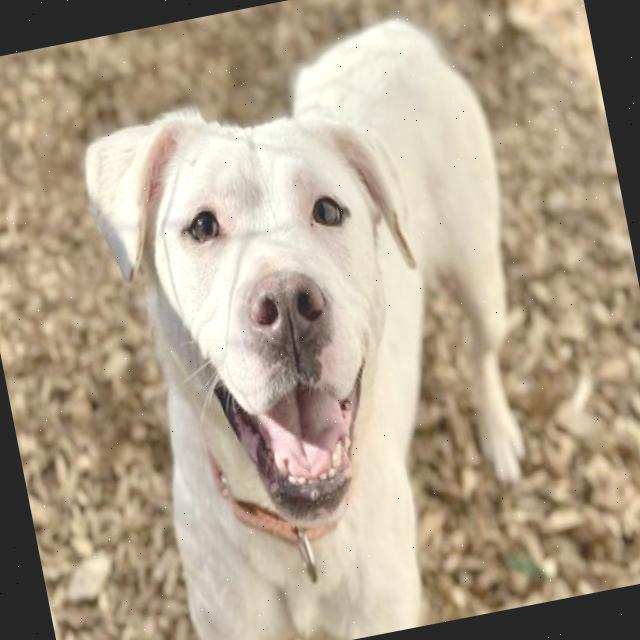labrador_retriever_dog: (65, 56, 482, 574)
